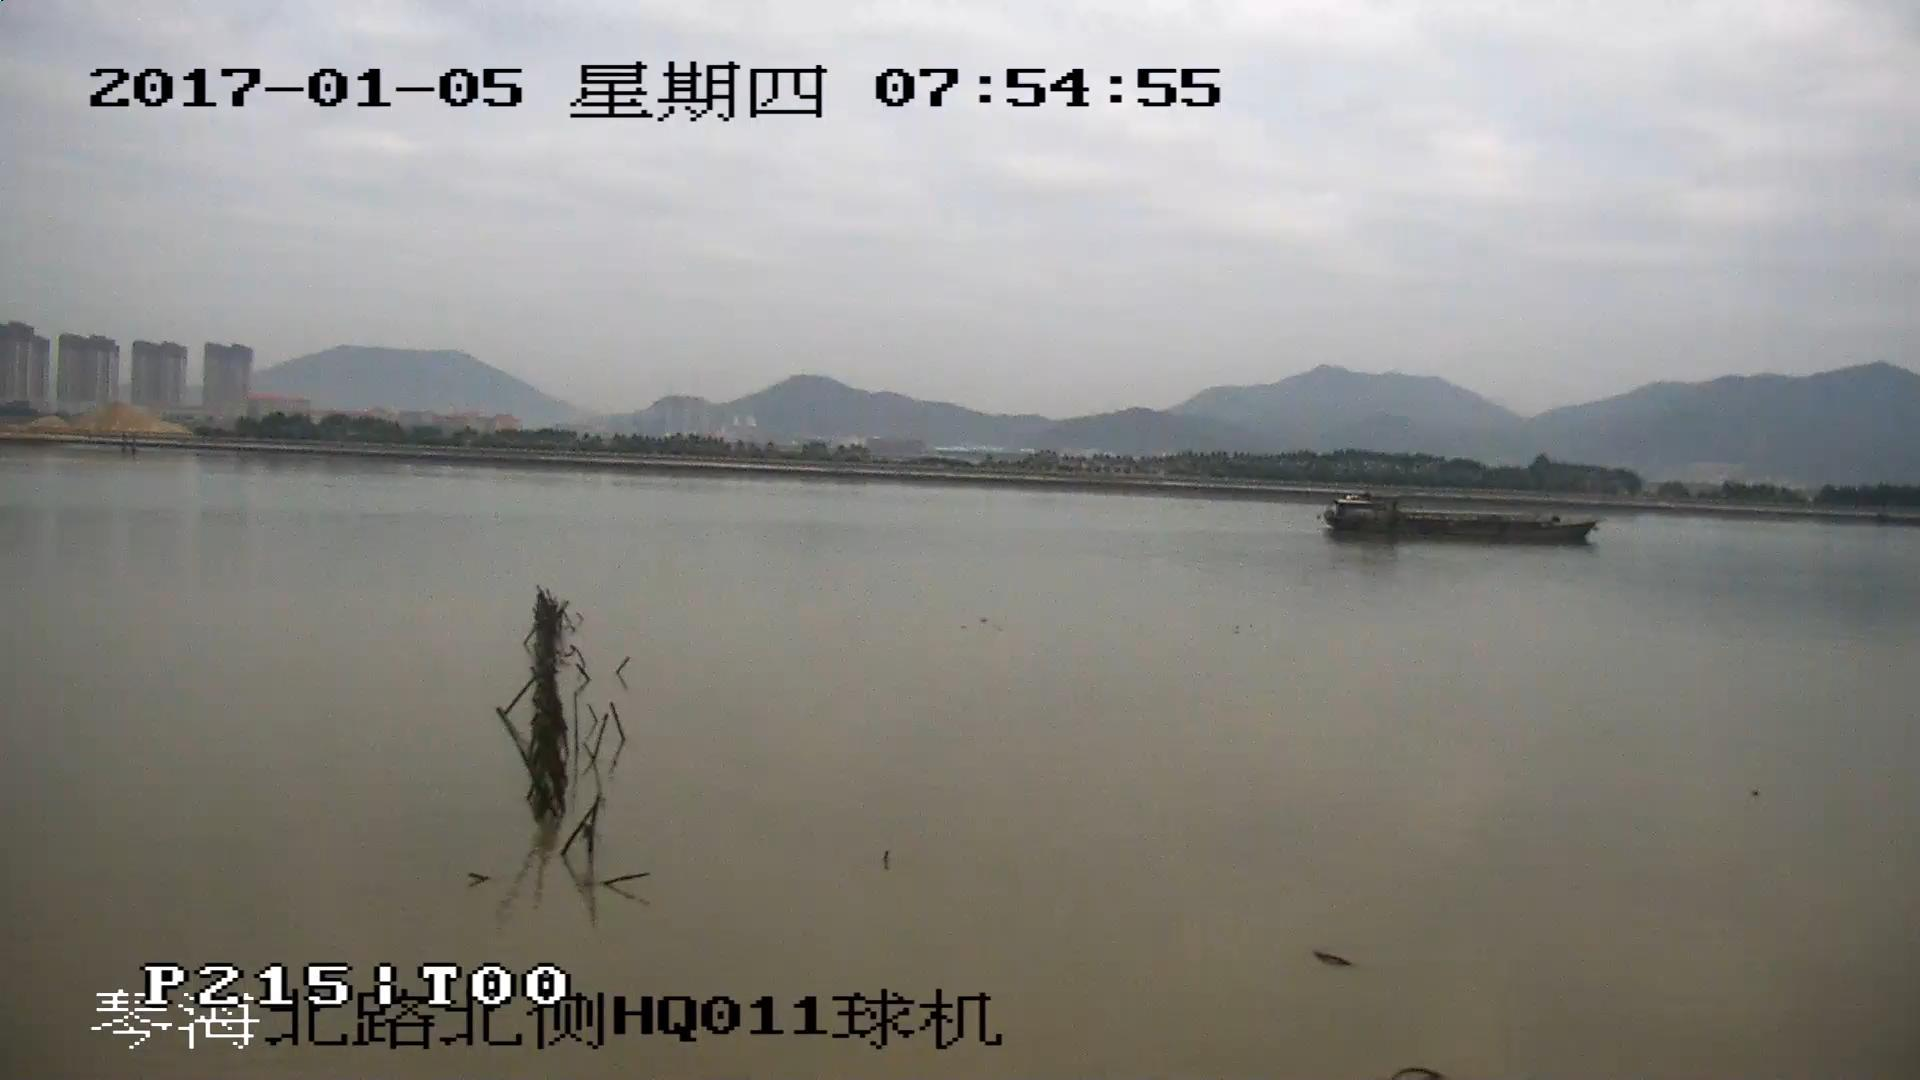Ship: (1324, 496, 1600, 545)
